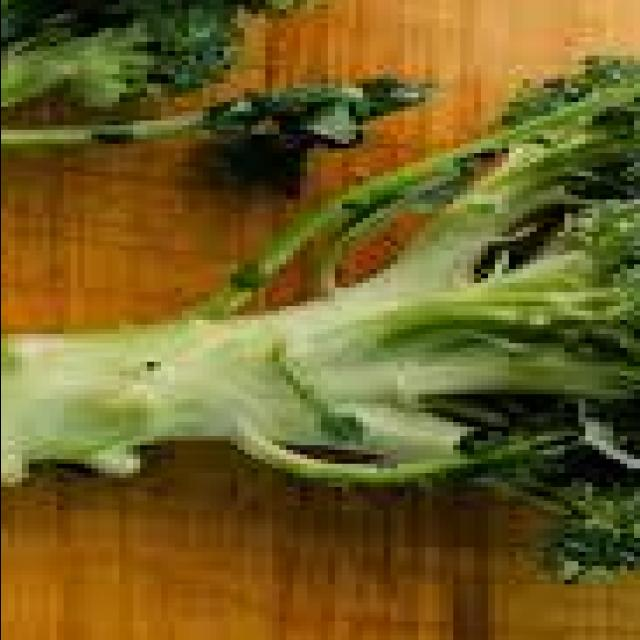broccoli: (0, 52, 640, 587)
